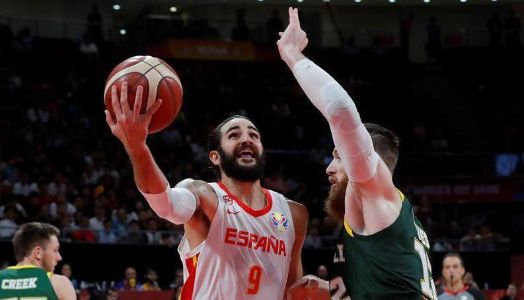baloncesto: (103, 54, 183, 134)
